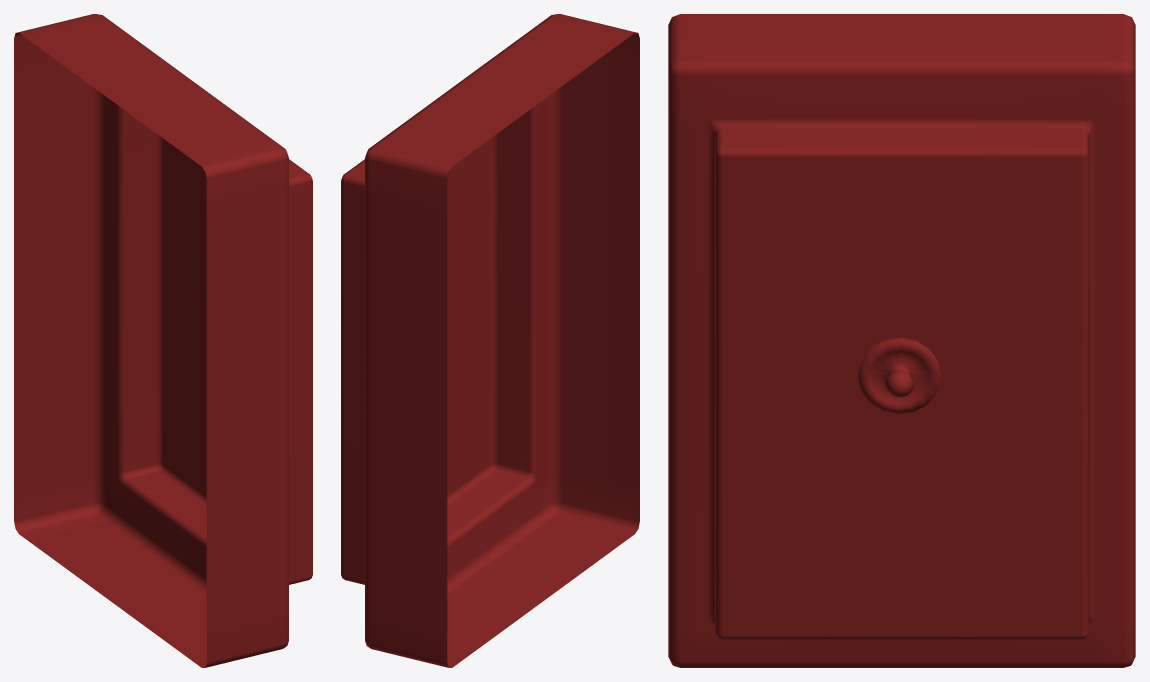
File: lampButton_low.fbx
The picture shows the model from 3 angles, left to right: view 1: azimuth 30°, elevation 25°; view 2: azimuth 150°, elevation 25°; view 3: azimuth 270°, elevation 25°; orthographic projection. The views are drawn at different scales.
Visible parts, largest first — view 1: lamp_button_low; view 2: lamp_button_low; view 3: lamp_button_low.
Boxes of the visible parts, x1,y1,x2,y2 form: lamp_button_low: [14, 14, 312, 667]; lamp_button_low: [341, 14, 639, 667]; lamp_button_low: [668, 14, 1135, 667].
Size of the model in its own units: 2.47 by 7.44 by 5.18.
